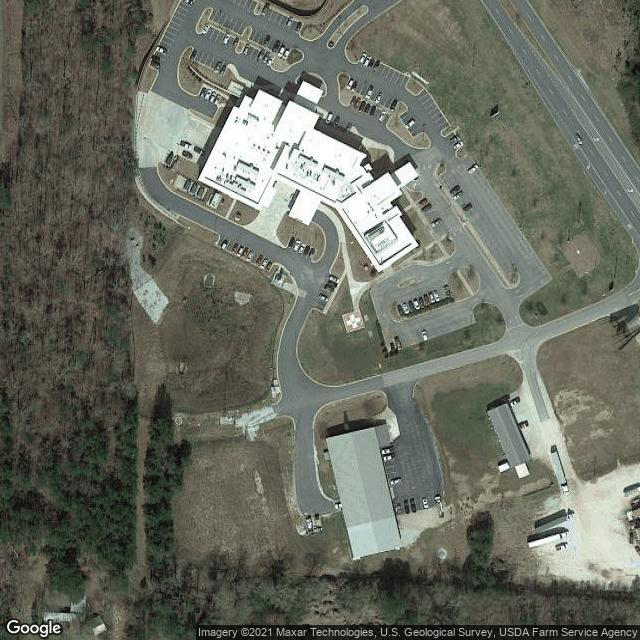Helipad: (338, 308, 366, 334)
